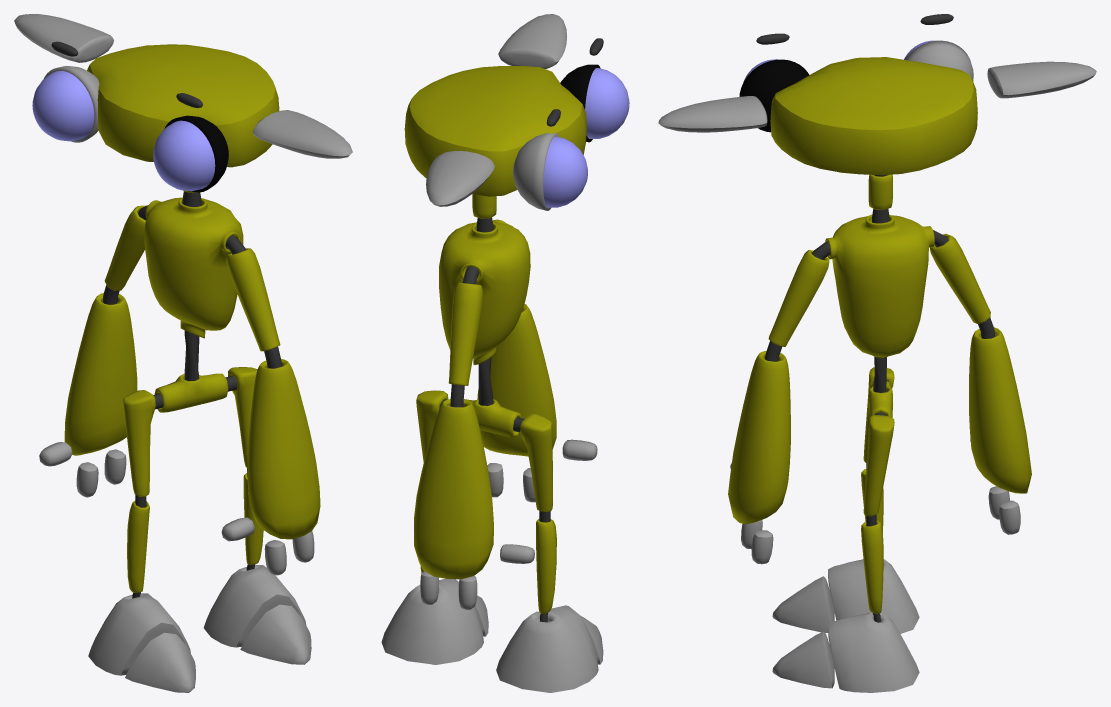
The model's file is die5.obj.
3 views of the same model, side by side, from view 1: azimuth 30°, elevation 25°; view 2: azimuth 150°, elevation 25°; view 3: azimuth 270°, elevation 25° (orthographic). The views are drawn at different scales.
Visible parts, largest first — view 1: Mesh polySurface50, Mesh polySurface41, Mesh polySurface18, Mesh polySurface37, Mesh polySurface48, Mesh polySurface26, Mesh polySurface10, Mesh polySurface22, Mesh polySurface6, Mesh polySurface8, Mesh polySurface24, Mesh polySurface51 (+20 smaller); view 2: Mesh polySurface37, Mesh polySurface50, Mesh polySurface41, Mesh polySurface26, Mesh polySurface10, Mesh polySurface18, Mesh polySurface48, Mesh polySurface47, Mesh polySurface38, Mesh polySurface22, Mesh polySurface6, Mesh polySurface28 (+13 smaller); view 3: Mesh polySurface41, Mesh polySurface50, Mesh polySurface48, Mesh polySurface18, Mesh polySurface37, Mesh polySurface10, Mesh polySurface26, Mesh polySurface44, Mesh polySurface51, Mesh polySurface47, Mesh polySurface38, Mesh polySurface12 (+6 smaller).
Part boxes in pixels (x1,y1,x2,y2): Mesh polySurface50: [90, 44, 275, 125]; Mesh polySurface41: [144, 197, 243, 338]; Mesh polySurface18: [247, 359, 320, 539]; Mesh polySurface37: [64, 293, 137, 455]; Mesh polySurface48: [87, 64, 279, 167]; Mesh polySurface26: [88, 593, 190, 675]; Mesh polySurface10: [203, 565, 306, 647]; Mesh polySurface22: [32, 71, 94, 141]; Mesh polySurface6: [153, 120, 215, 191]; Mesh polySurface8: [240, 604, 311, 664]; Mesh polySurface24: [125, 632, 195, 692]; Mesh polySurface51: [226, 248, 280, 351]; Mesh polySurface37: [414, 399, 493, 579]; Mesh polySurface50: [409, 66, 582, 151]; Mesh polySurface41: [439, 219, 530, 364]; Mesh polySurface26: [496, 605, 598, 692]; Mesh polySurface10: [381, 578, 483, 664]; Mesh polySurface18: [477, 303, 556, 456]; Mesh polySurface48: [404, 99, 586, 196]; Mesh polySurface47: [426, 151, 494, 205]; Mesh polySurface38: [448, 282, 482, 385]; Mesh polySurface22: [543, 136, 587, 207]; Mesh polySurface6: [585, 68, 629, 138]; Mesh polySurface28: [520, 413, 552, 511]; Mesh polySurface41: [825, 214, 934, 358]; Mesh polySurface50: [775, 57, 973, 130]; Mesh polySurface48: [770, 78, 977, 175]; Mesh polySurface18: [728, 351, 790, 524]; Mesh polySurface37: [969, 327, 1031, 493]; Mesh polySurface10: [828, 612, 919, 692]; Mesh polySurface26: [828, 559, 919, 633]; Mesh polySurface44: [658, 96, 766, 128]; Mesh polySurface51: [768, 250, 829, 346]; Mesh polySurface47: [990, 61, 1096, 95]; Mesh polySurface38: [930, 233, 990, 323]; Mesh polySurface12: [863, 415, 894, 516].
Size of the model in its own units: 5.68 by 14.23 by 9.67.
